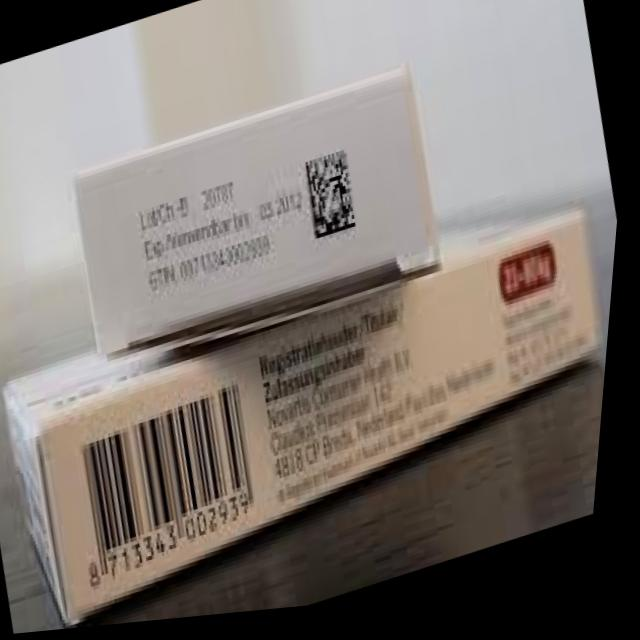datamatrix: (295, 144, 372, 257)
